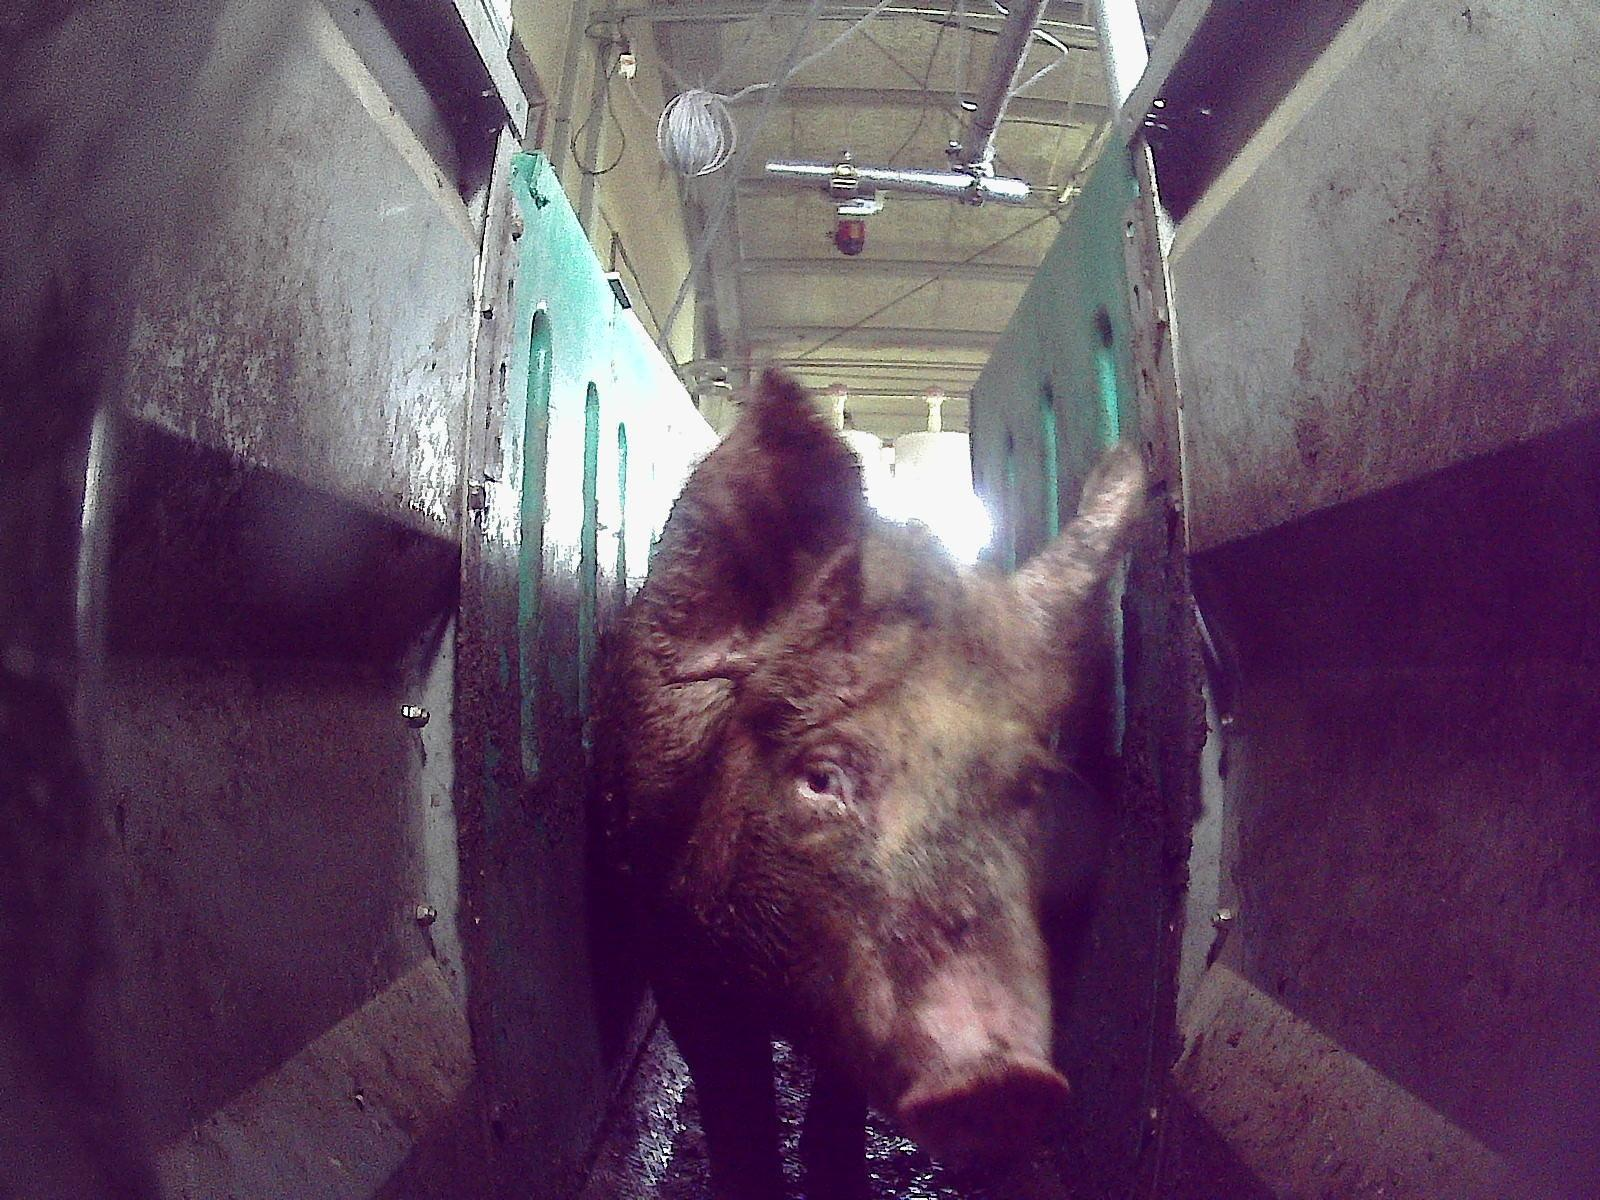Face: (699, 582, 1065, 1169)
